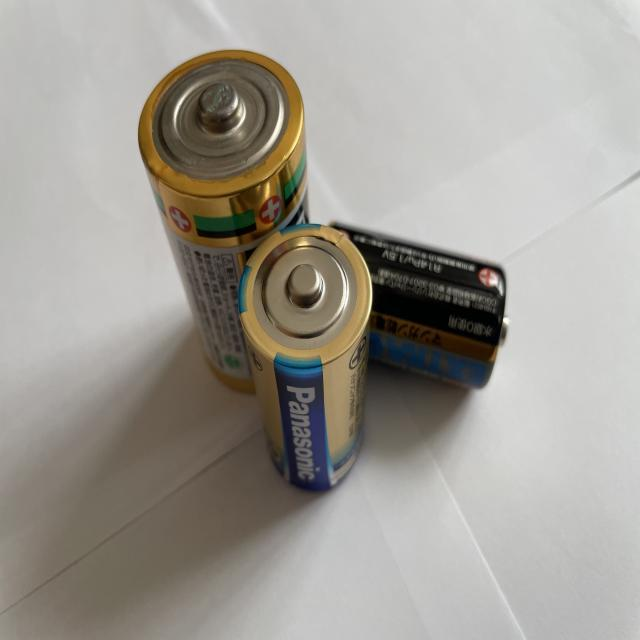hazardous waste: (136, 50, 312, 394), (239, 224, 375, 494), (319, 218, 512, 394)
